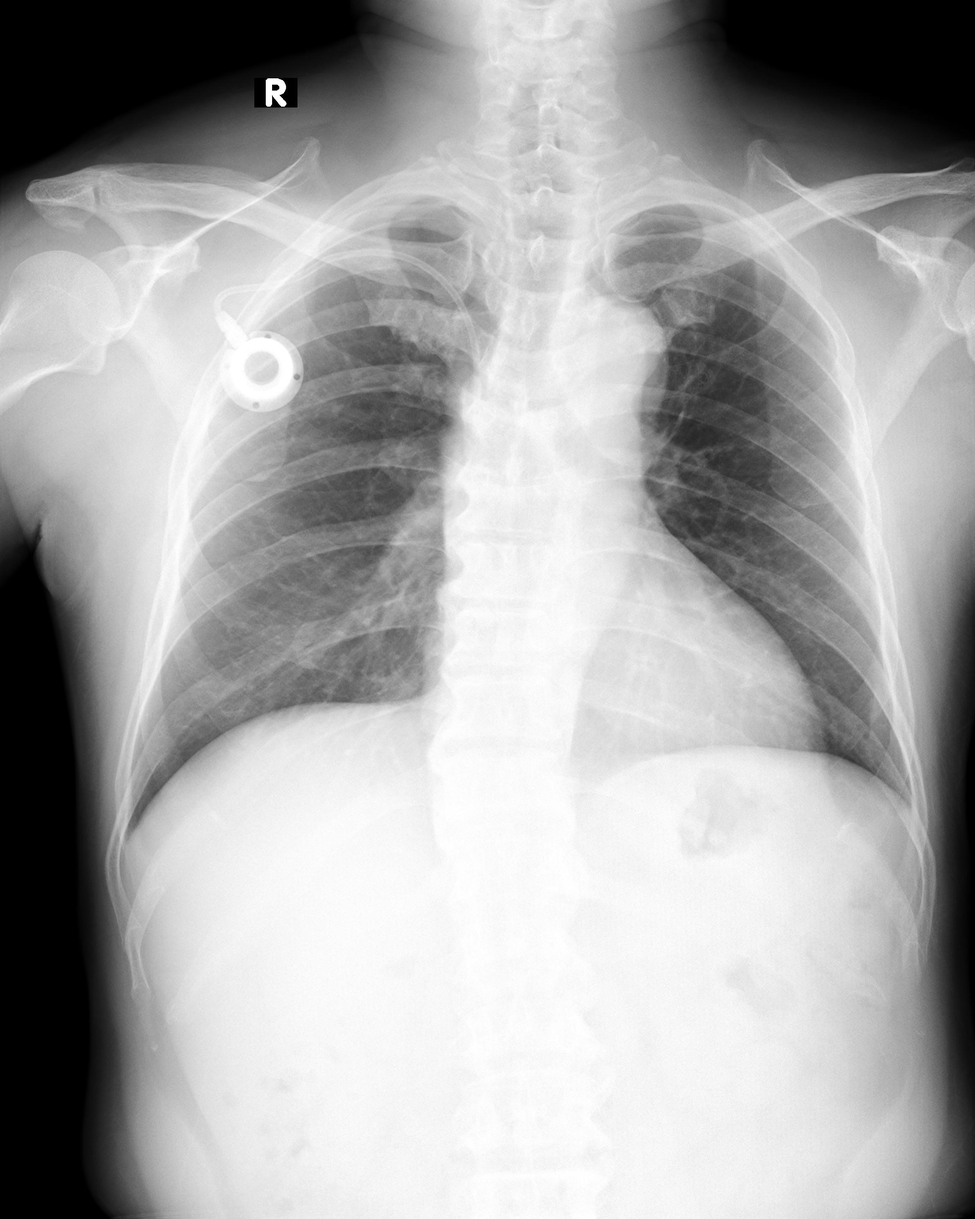Aortic enlargement: (563, 301, 671, 416)
